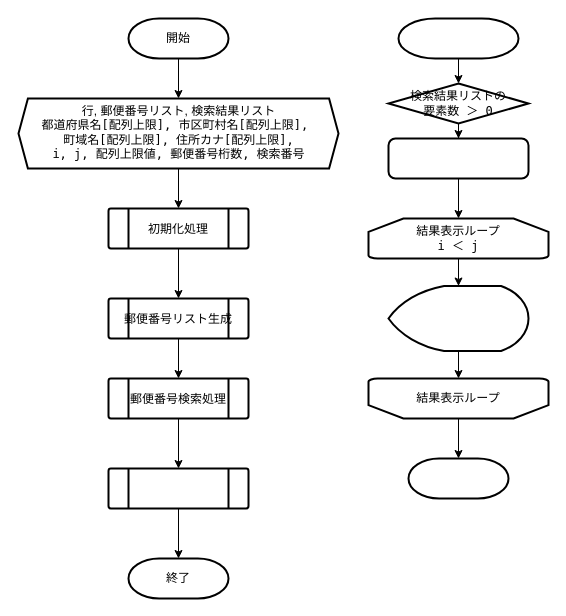
The diagram is 566 pixels wide and 616 high, and some of its shapes have lost their labels. The centre of each missing label's shape, as x and y in pixels:
"i = 0" goes at (458,158).
"戻る" goes at (458,478).
"終了処理" goes at (178,488).
"表示処理" goes at (458,38).
"都道府県名[i] 市区町村名[i] 町域名[i]" goes at (458,318).
